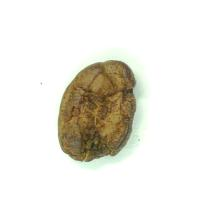NG: (59, 61, 136, 161)
